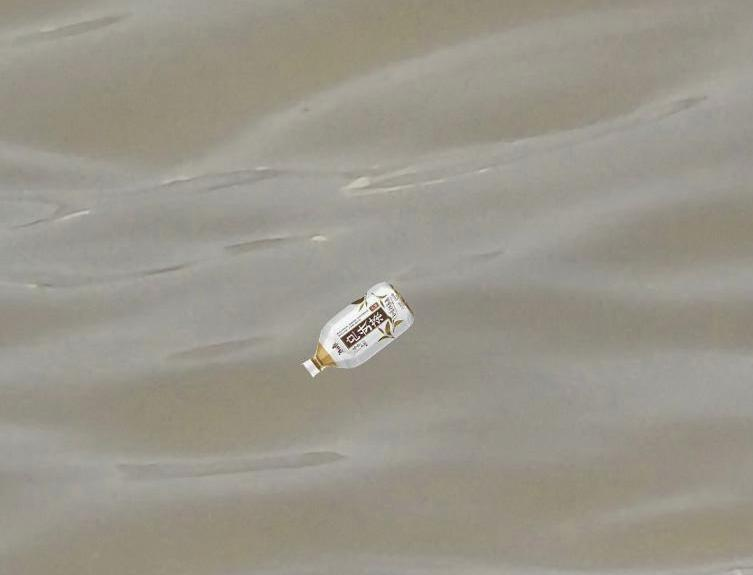Plastic: (299, 278, 415, 382)
